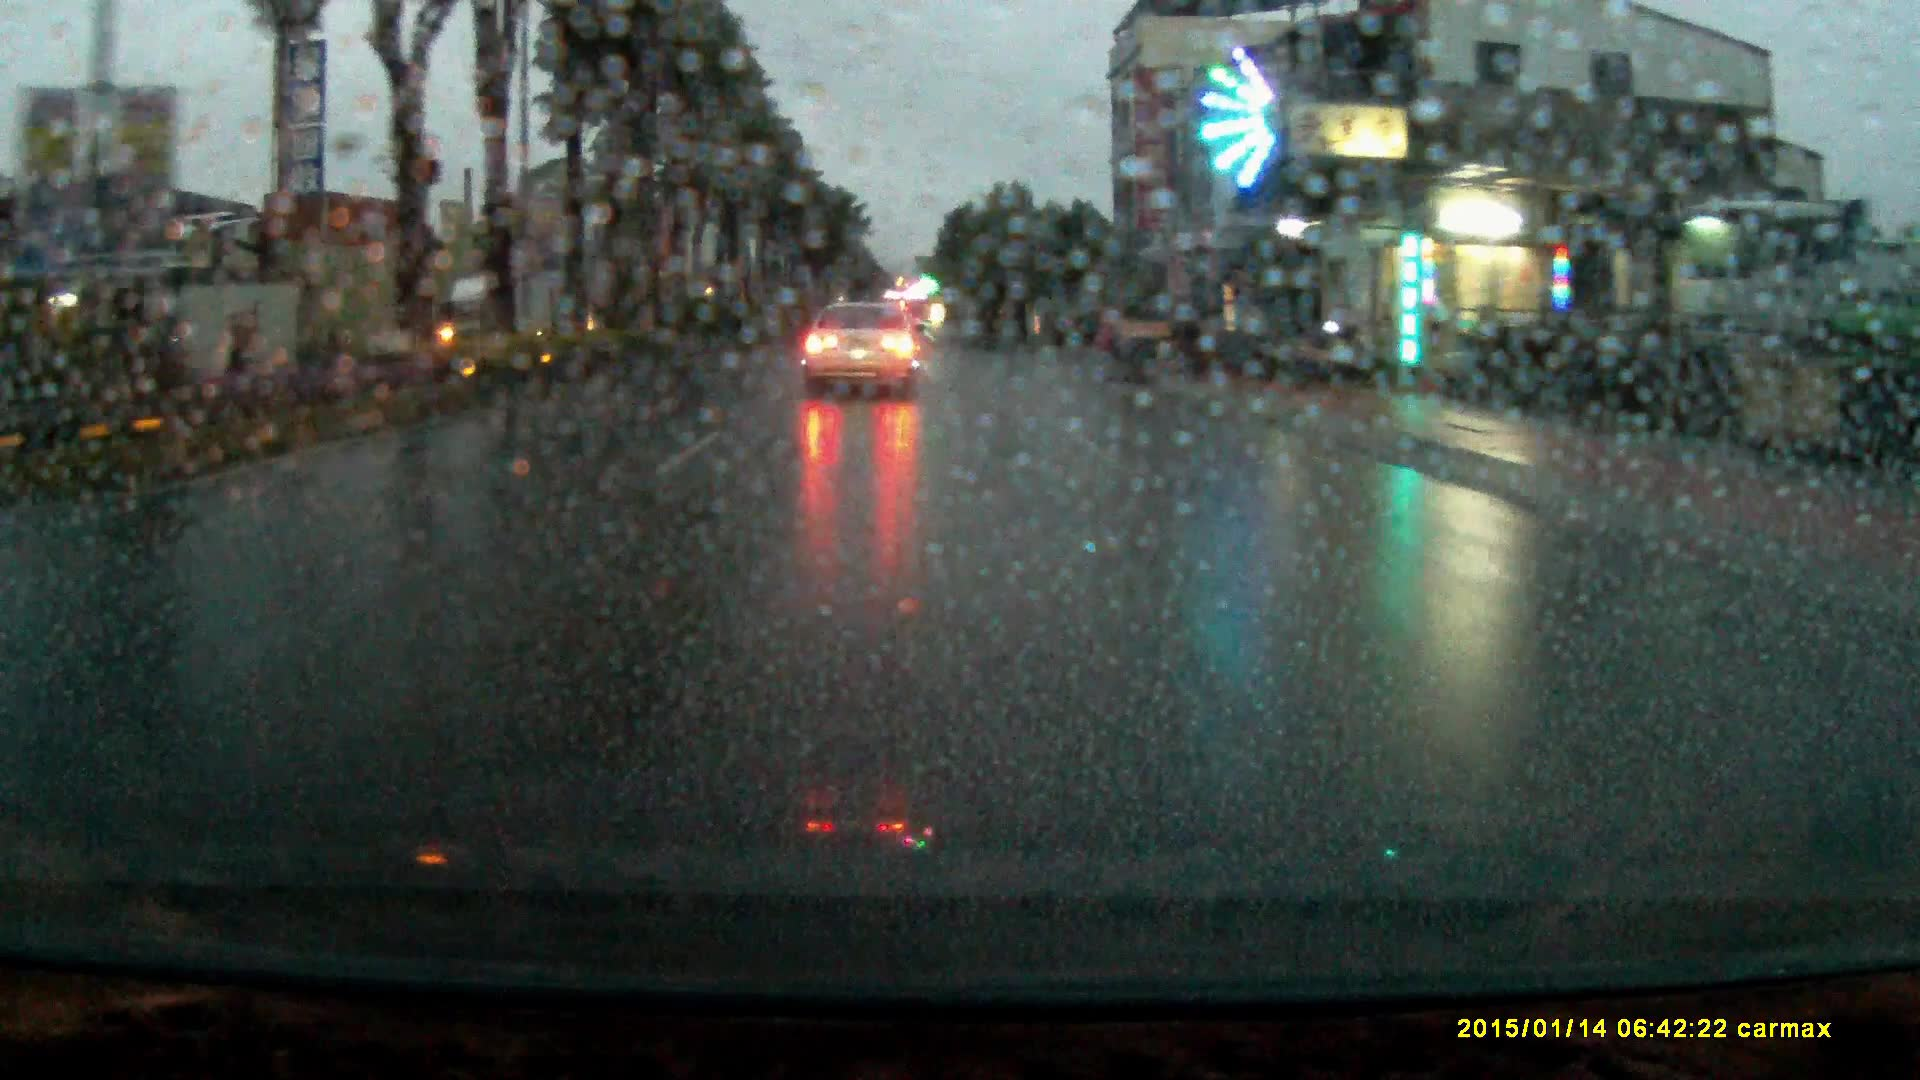vehicle: (1656, 203, 1857, 394), (802, 305, 916, 407), (440, 268, 553, 352), (1033, 307, 1097, 357)
